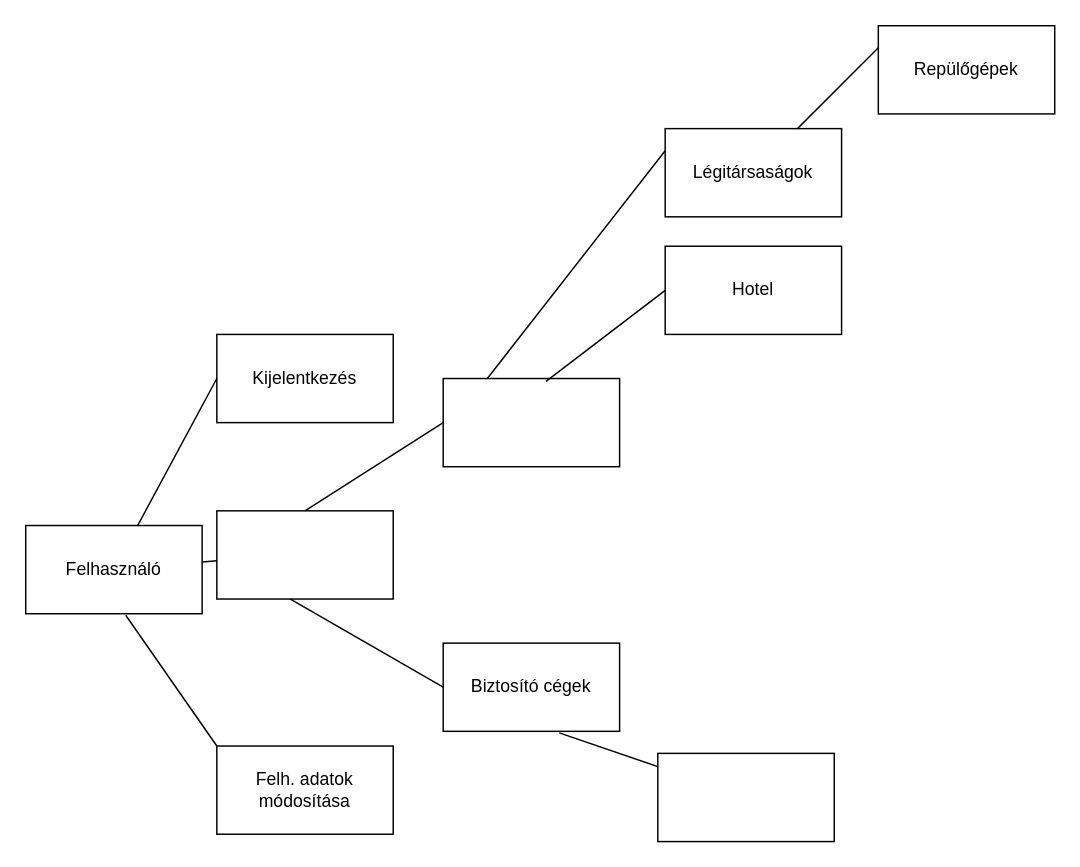
Some shapes in this 1080 by 867 pixel diagram are drawn without their labels. The box of each missing label's shape, as (x1, y1, x2, y2) in pixels:
Biztosítások: (656, 752, 834, 842)
Jegyek: (215, 509, 393, 599)
Utak: (442, 377, 620, 467)
